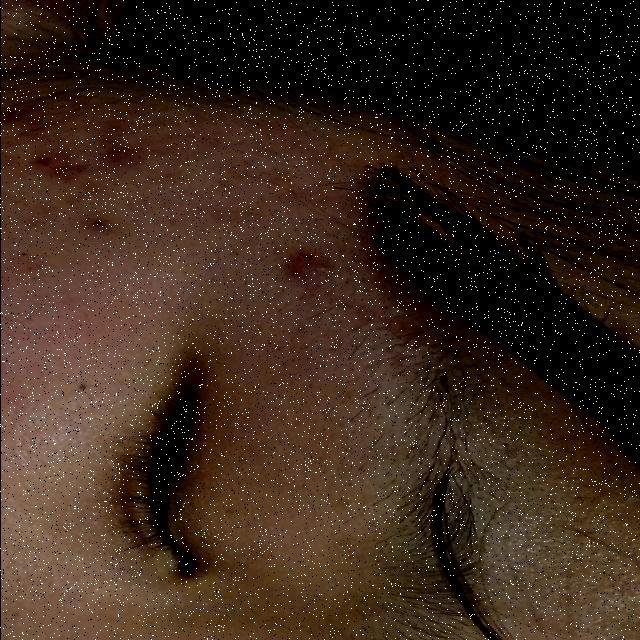nodules: (257, 238, 347, 310), (92, 134, 160, 190)
